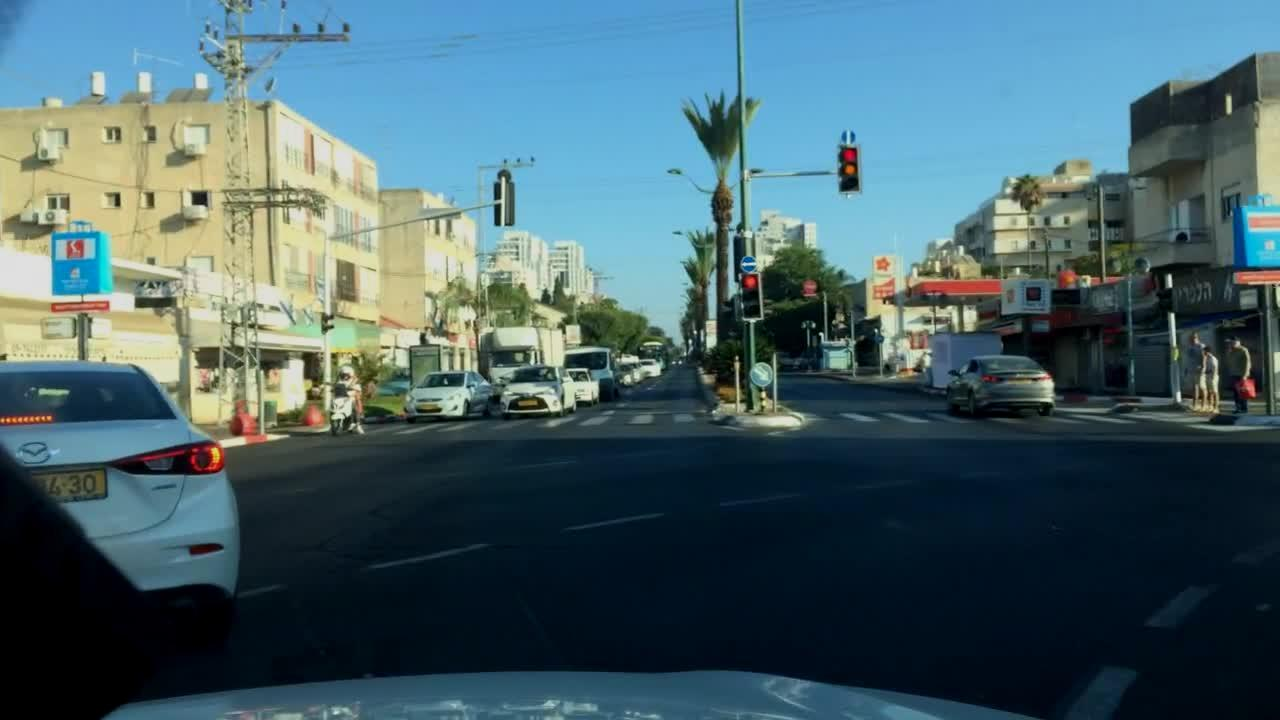Mazda: (11, 432, 52, 468)
